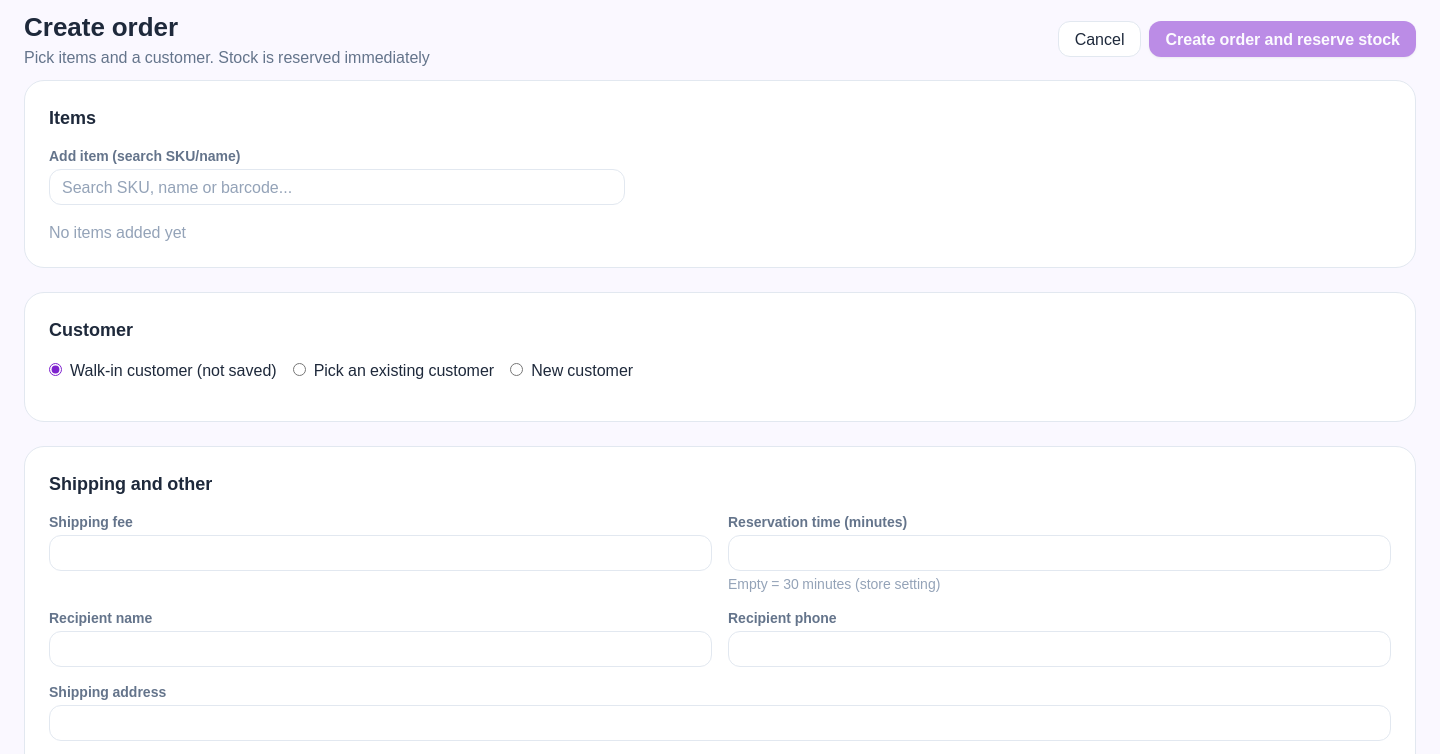
it: OrderForm › ເພີ່ມສິນຄ້າ: ສະແດງແຖວໃນຕາຕະລາງ (ລາຄາ, ສາງຫຼັກ, ຂາຍໄດ້) ແລະ ສະຫຼຸບເງິນຄາດຄະເນຈາກ VAT ໃນຕັ້ງຄ່າຮ້ານ
The width and height of the screenshot is (1440, 754).
Type "tee" into the dropdown labelled "Add item (search SKU/name)".
click(337, 186); type("tee")  # box 49,168 -> 625,204
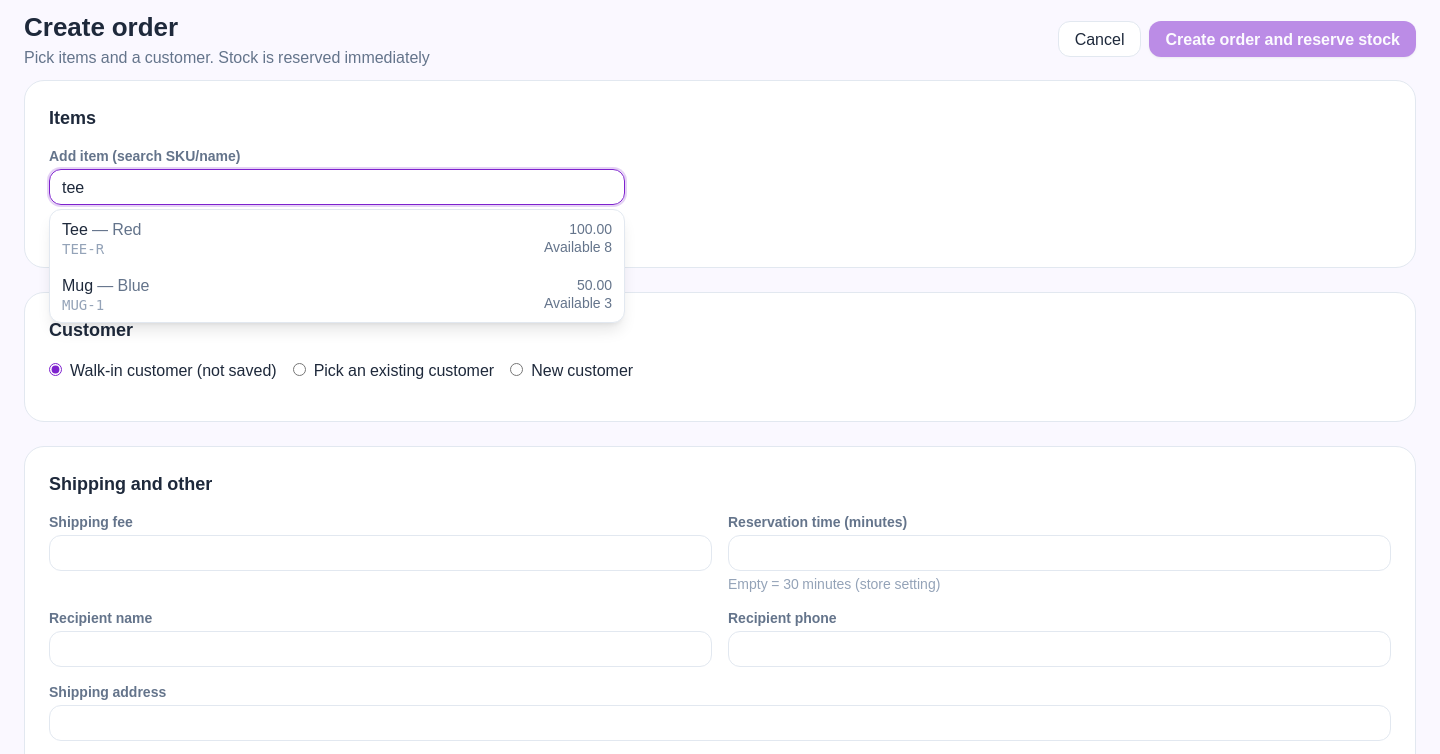
Click the option "Tee — Red TEE-R 100.00 Available 8".
click(83, 248)  # box 50,210 -> 624,266
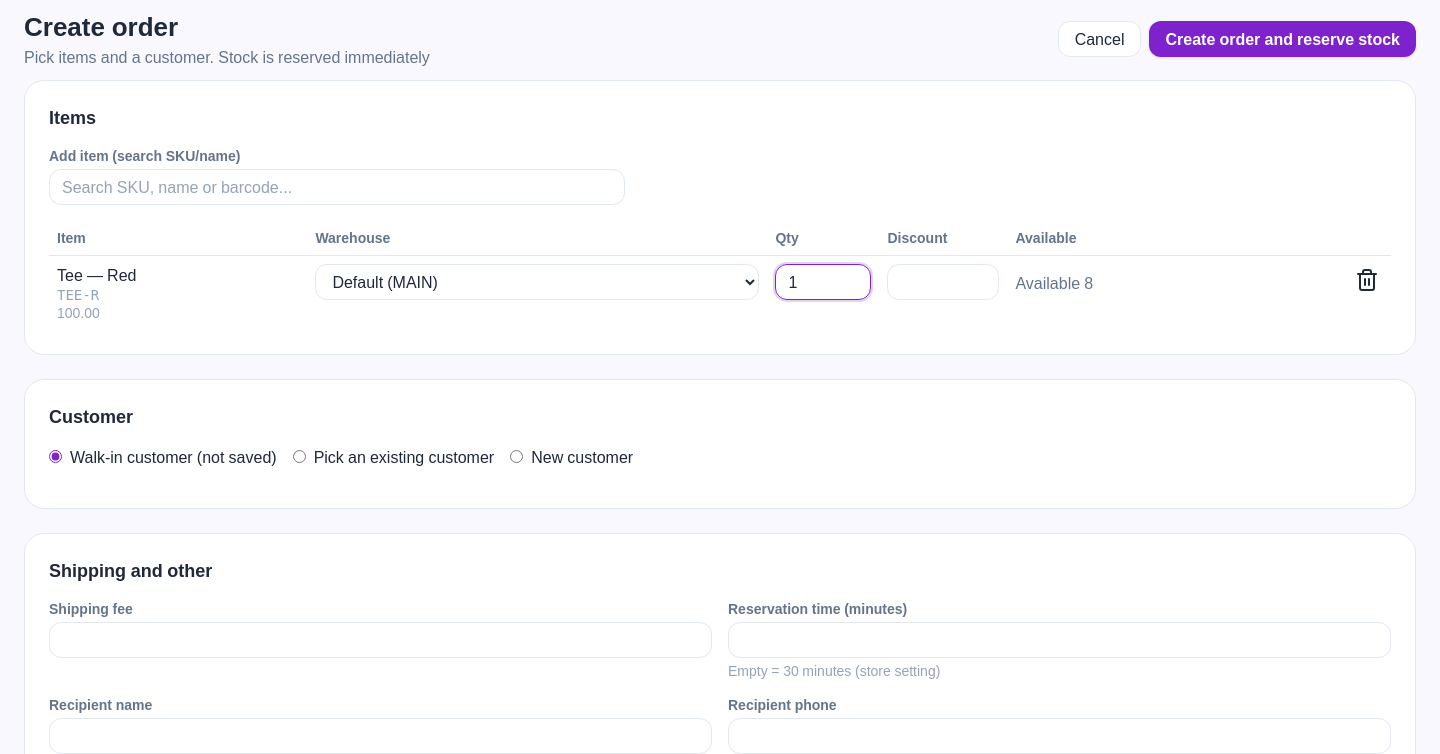
Check: the text "TEE-R" is shown, box 57,286 -> 99,302
Check: the text "Available 8" is shown, box 1016,270 -> 1093,296
Check: the text "Tee — Red" is shown, box 57,262 -> 136,288
Replace the text in the field named "Qty TEE-R" with "2" at x=824, y=282, box 776,264 -> 872,300
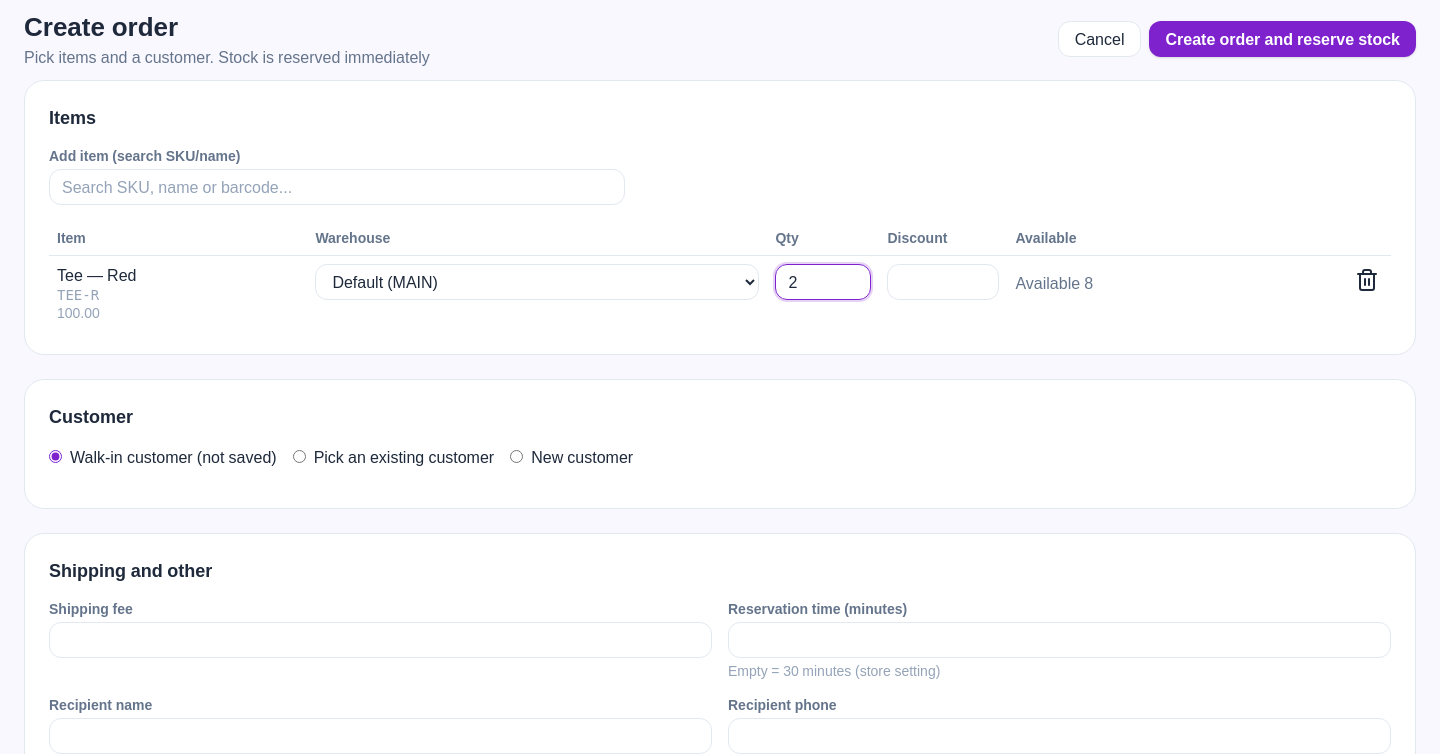
Type "10" into the field named "Discount TEE-R".
click(944, 282); type("10")  # box 888,264 -> 1000,300
(page scrolled)
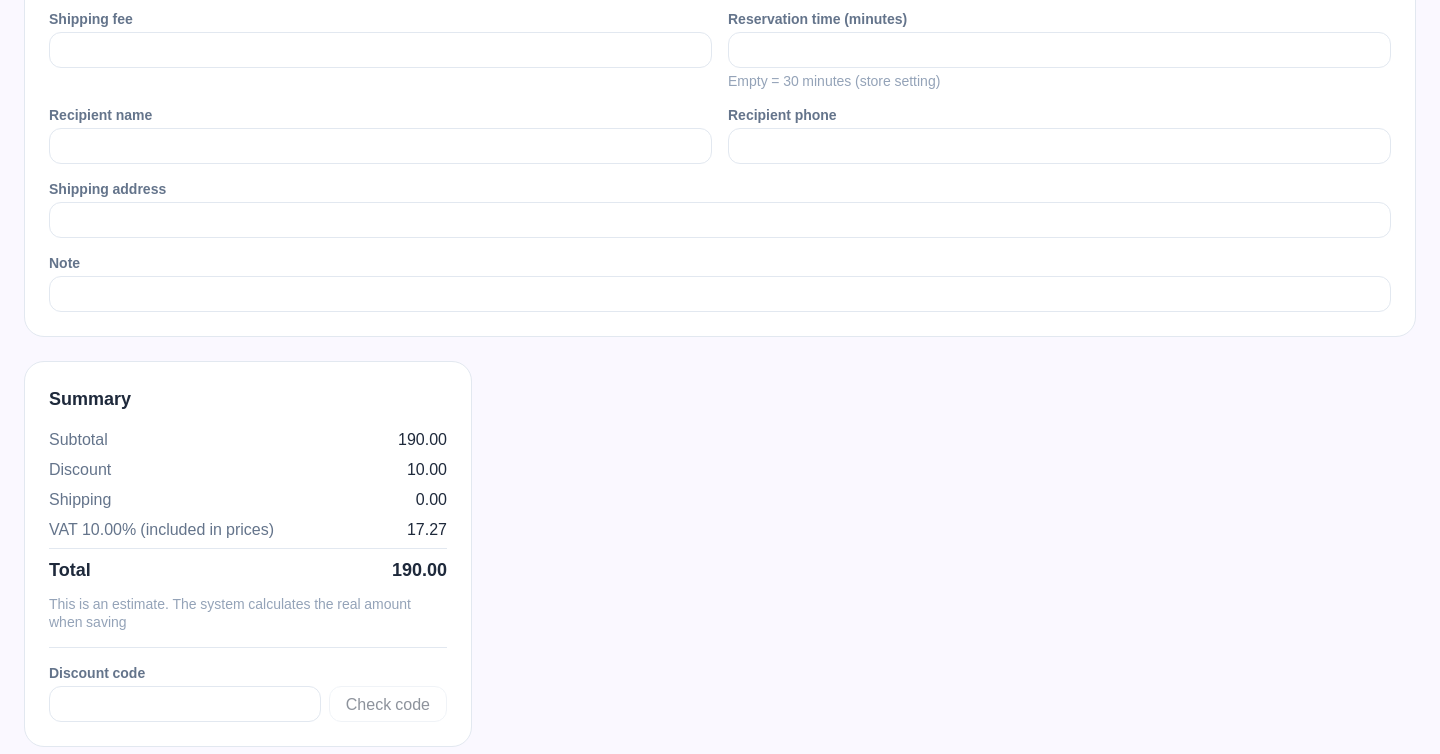
Check: the text "This is an estimate. The system calculates the real amount when saving" is shown, box 49,594 -> 447,630
Check: the text with test id "summary-total" reads "190.00", box 392,554 -> 447,584
Check: the text with test id "summary-vat" reads "17.27", box 407,516 -> 447,542
